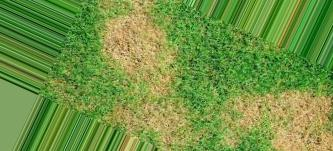patch: (285, 101, 318, 146), (138, 112, 189, 136), (118, 19, 148, 57), (135, 62, 155, 72)
